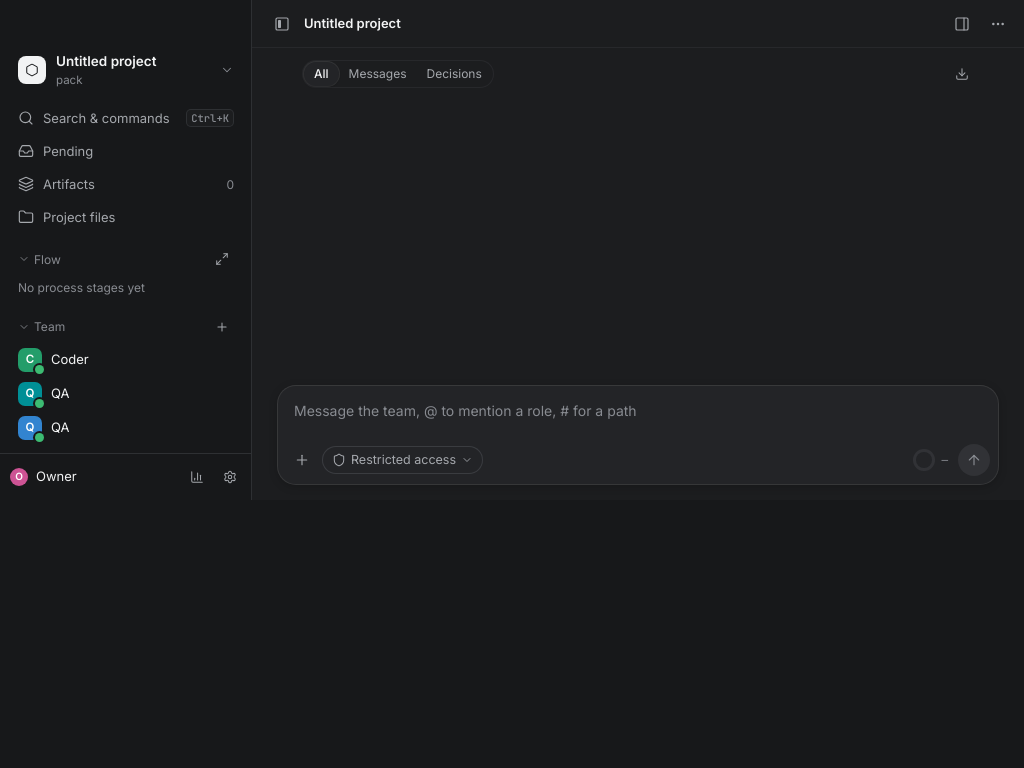
成员行右键菜单（A16b 第一批） › 打开详情 · @ 点名 · 复制名字 · 换头像 · 恢复默认，依此顺序
Press the mouse on the button "C Coder" at (126, 360), box [10,343,242,377]
Right-click the button "C Coder" at (126, 360), box [10,343,242,377]
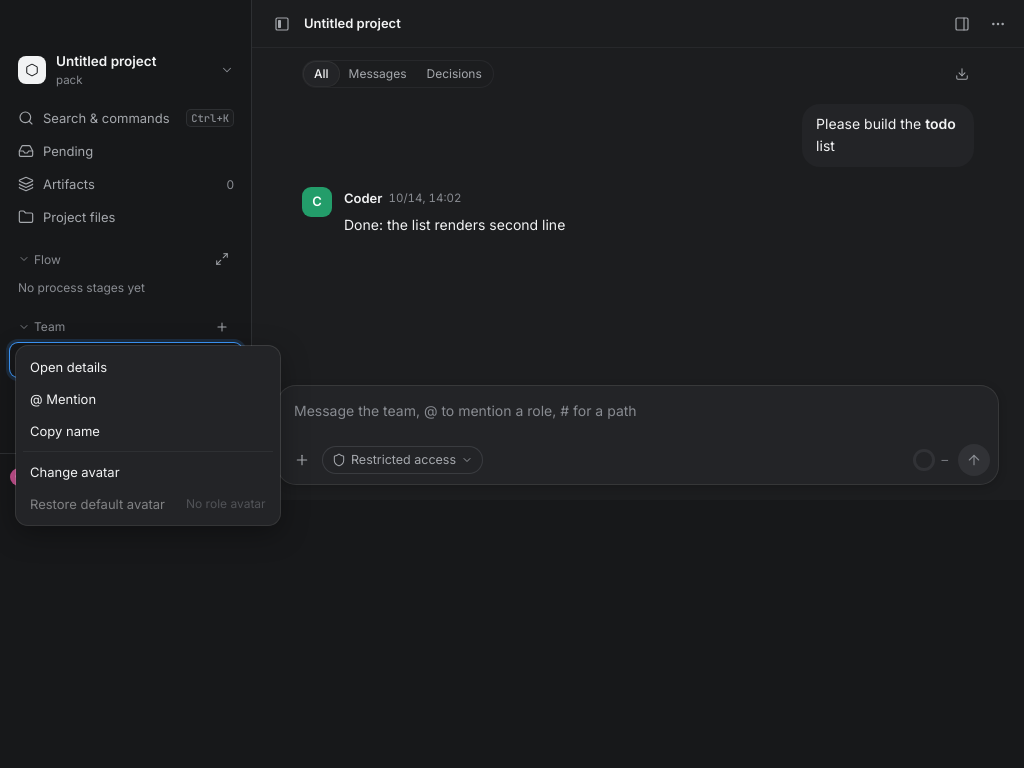
Expected: the menu is shown, [16,346,280,525]
